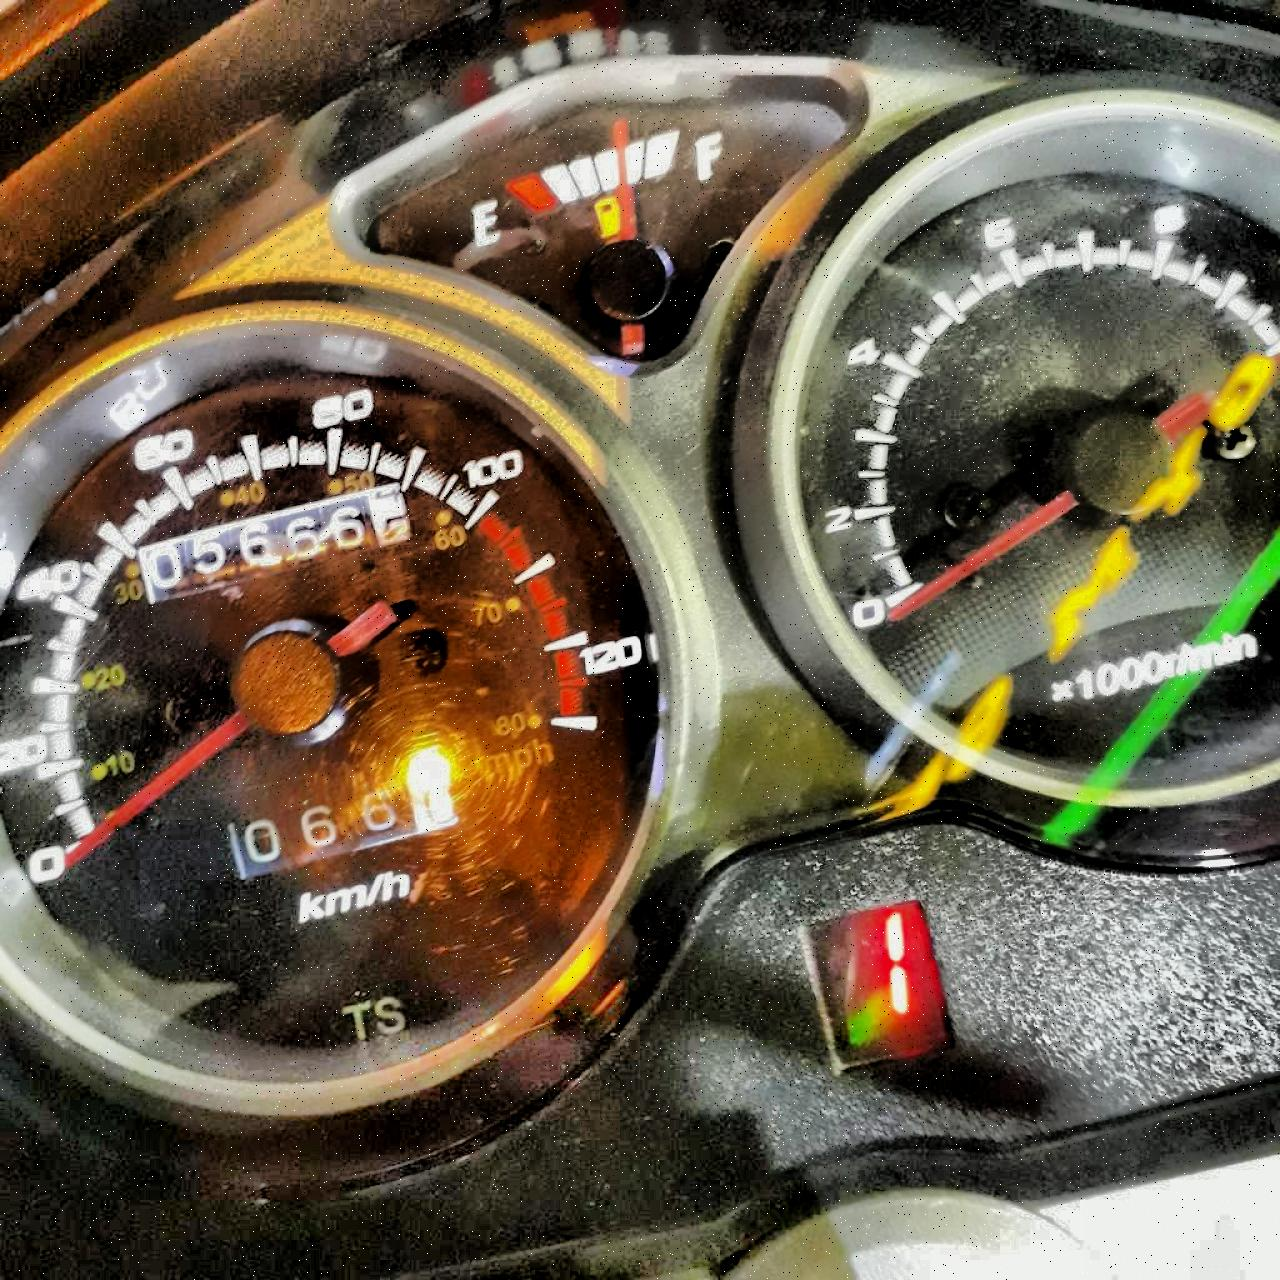0: (144, 539, 182, 588), (247, 479, 264, 502)
4: (234, 485, 247, 505)
5: (188, 527, 225, 578), (381, 509, 409, 550)
6: (234, 519, 275, 571), (281, 512, 320, 561), (327, 504, 365, 552)
odometer: (134, 481, 414, 606)
